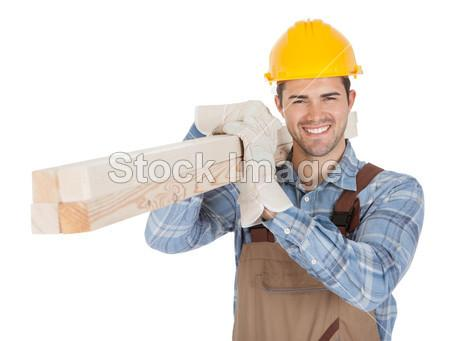helmet: (264, 18, 363, 86)
